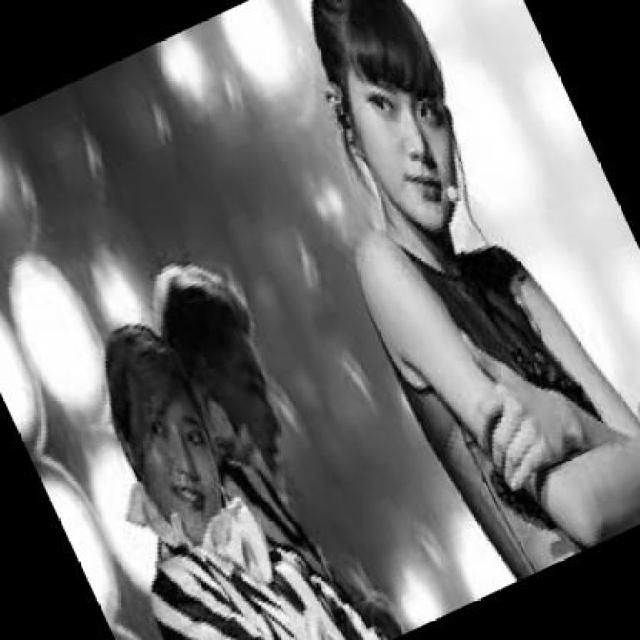earphone: (322, 98, 358, 154)
